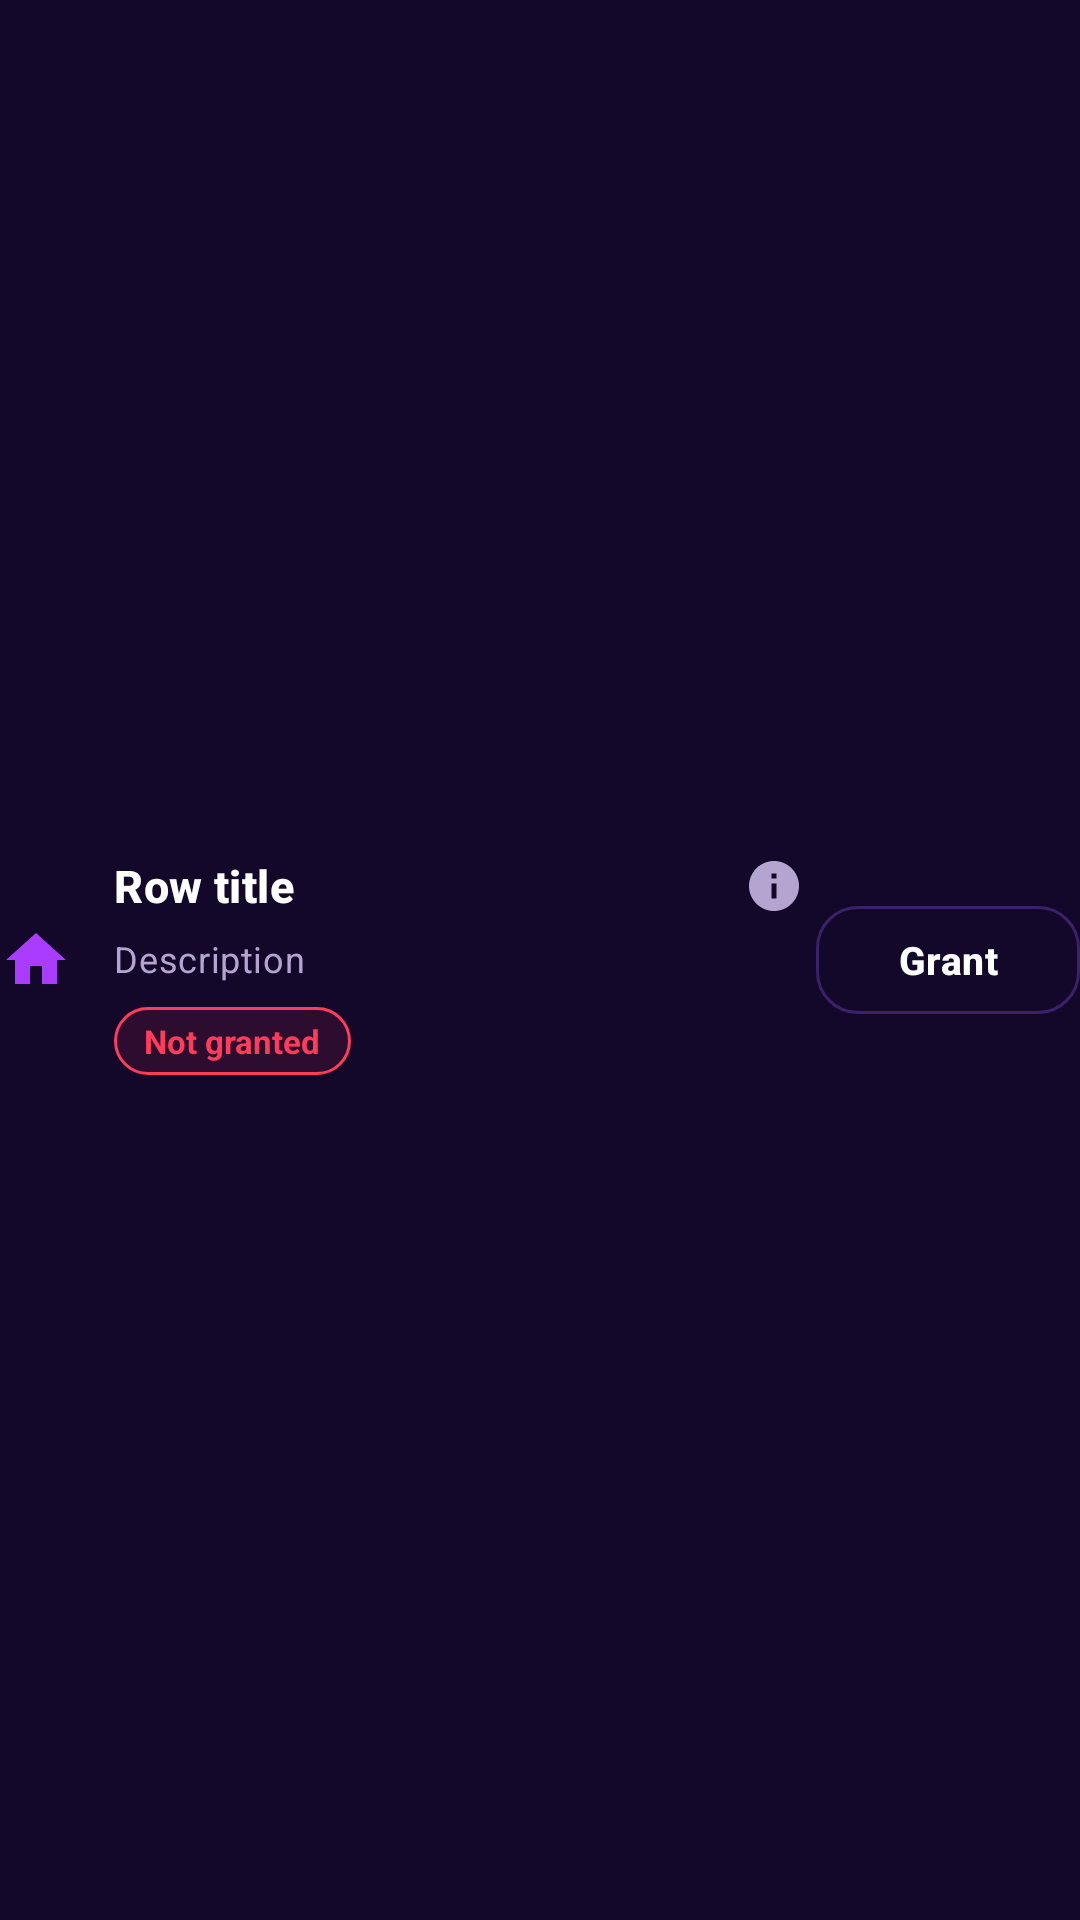

Point at icon controls on the screen. Image size 1080w x 1920h, points as (x=x, y=y).
home: (x=36, y=958)
